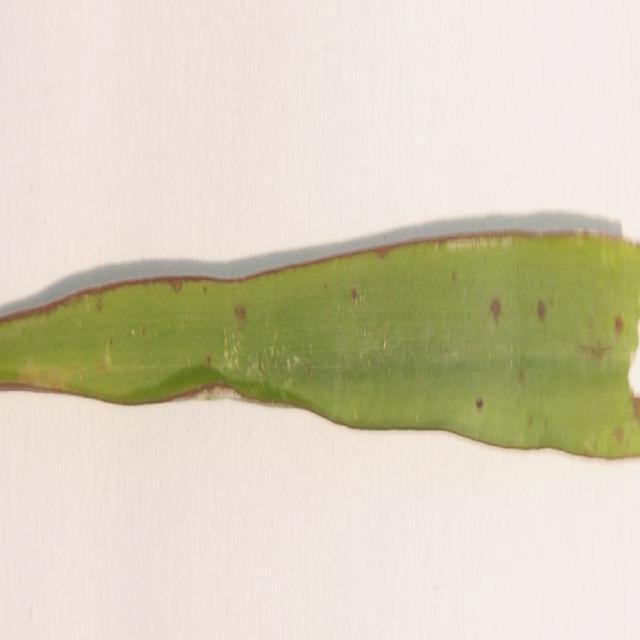Leafsmut: (63, 290, 111, 316), (576, 342, 613, 360), (32, 299, 59, 318), (196, 386, 222, 400), (444, 239, 474, 250), (489, 298, 502, 320), (94, 353, 109, 372), (222, 342, 234, 364), (536, 300, 547, 322), (103, 346, 113, 368), (613, 426, 625, 444), (234, 305, 248, 320), (517, 365, 527, 386), (374, 246, 391, 258), (632, 398, 640, 423), (87, 294, 99, 310), (498, 236, 514, 248), (574, 226, 590, 238), (614, 315, 624, 334), (94, 295, 105, 311), (574, 232, 585, 248), (584, 440, 596, 454), (257, 358, 267, 373), (474, 397, 484, 410), (285, 357, 294, 371), (304, 362, 313, 376), (172, 280, 183, 291), (350, 287, 359, 300), (140, 324, 148, 336), (451, 270, 459, 282), (526, 416, 534, 428), (381, 338, 388, 351), (205, 352, 214, 362), (204, 358, 212, 368), (130, 327, 136, 337), (108, 338, 114, 348), (202, 285, 208, 294), (322, 284, 328, 291)
